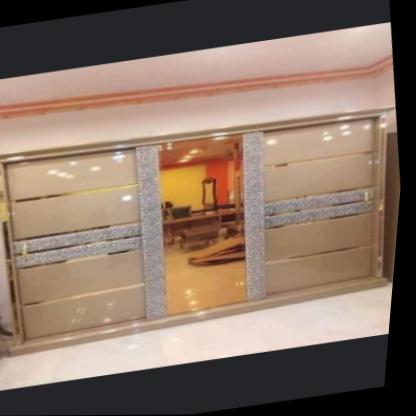Ceramic floor: (0, 283, 398, 392)
Closet: (2, 108, 393, 342)
